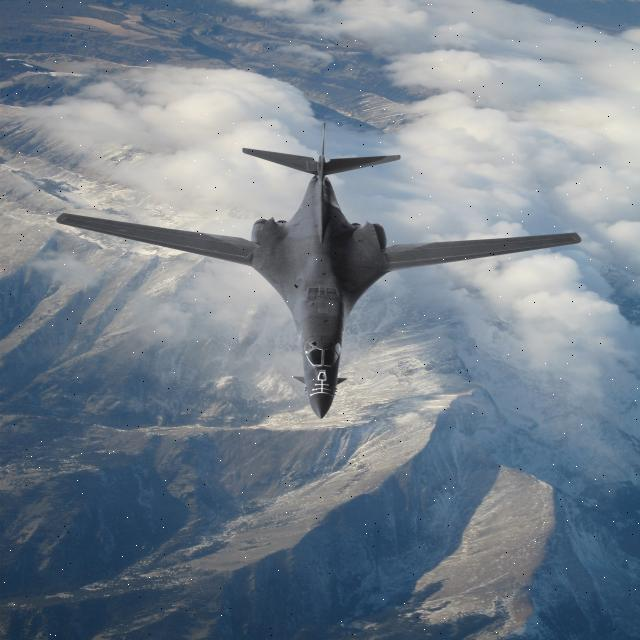B1: (45, 111, 587, 432)
